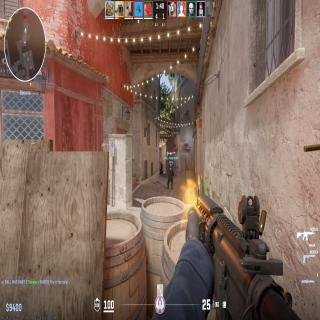CT-Body: (167, 167, 174, 190)
CT-Head: (169, 167, 172, 171)
T-Body: (160, 161, 163, 175)
T-Head: (160, 161, 162, 163)
